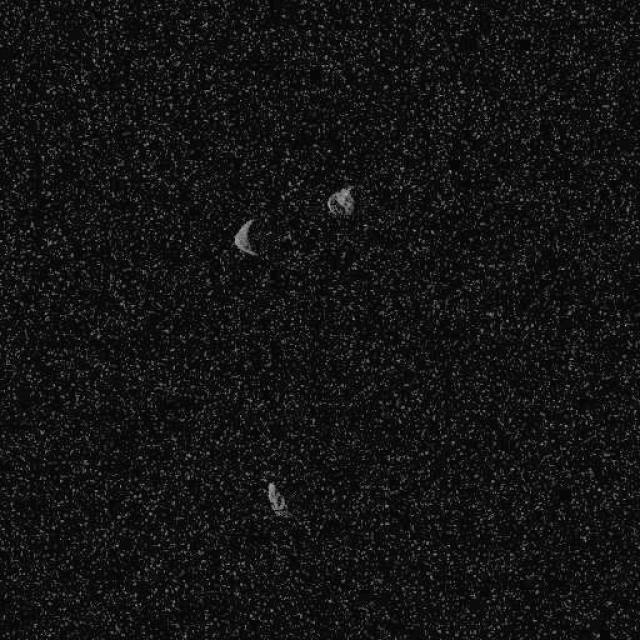D2: (231, 218, 259, 256), (325, 185, 355, 219), (265, 480, 290, 518)
